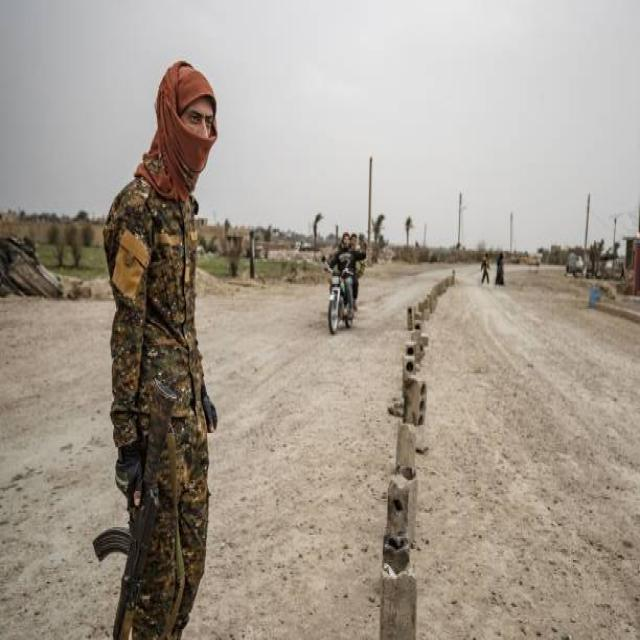6_pasamontana: (136, 59, 218, 201)
